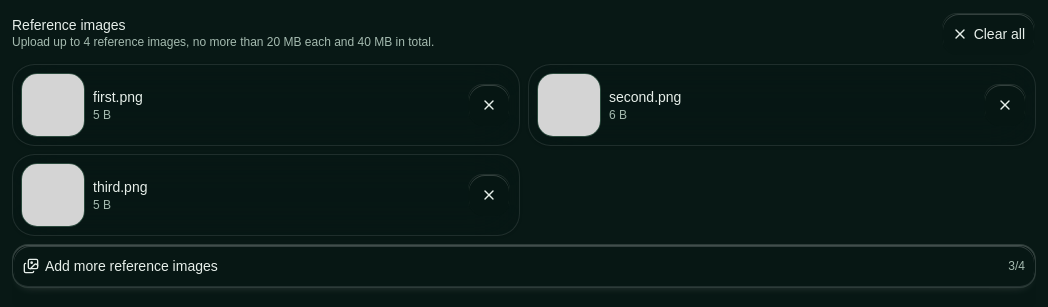
creation reference image picker › clears all selected reference images with a keyboard-accessible button
Press Enter in the button "Clear all", box x1=941 y1=12 x2=1036 y2=56
Click the button "Clear all".
click(988, 34)  # box x1=941 y1=12 x2=1036 y2=56
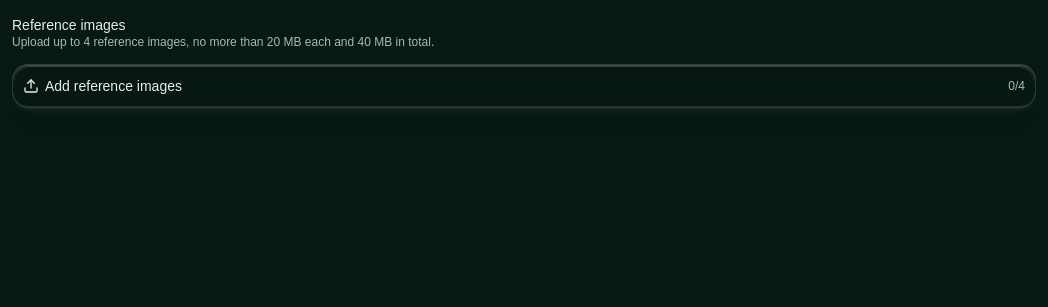
Result: the text "first.png" is gone
Result: the text "0/4" is shown at x1=1008 y1=78 x2=1025 y2=94
